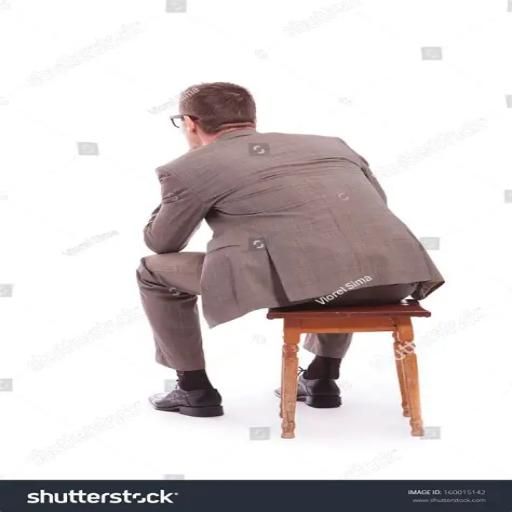person: (135, 80, 445, 416)
